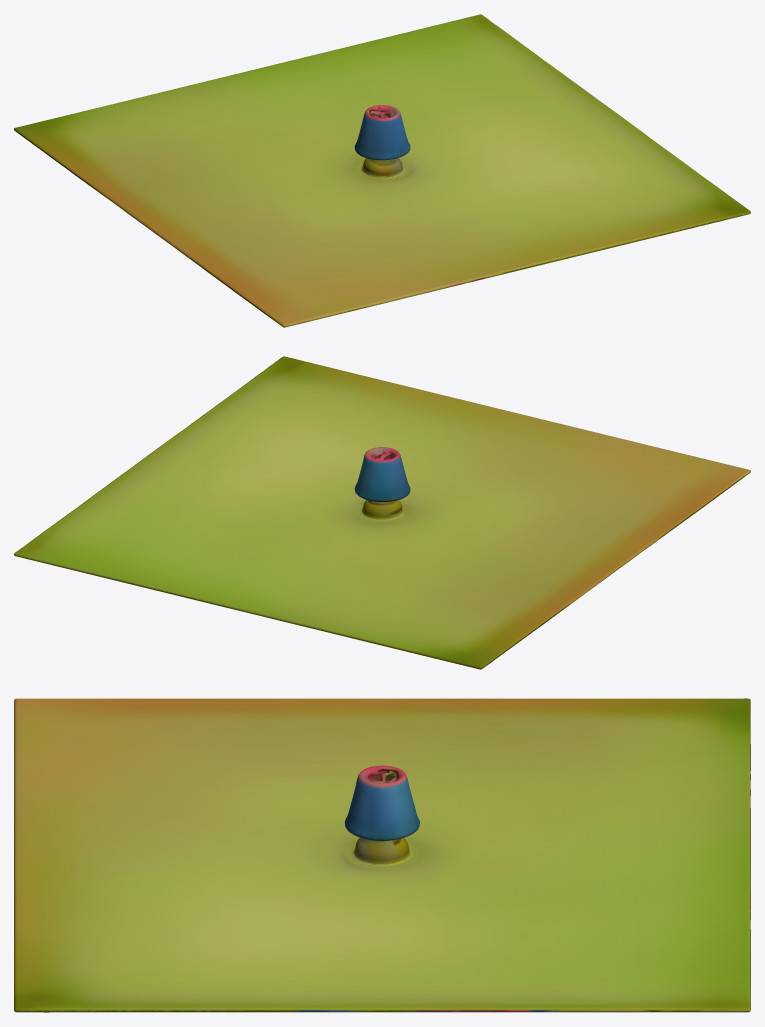
Rendered from bed-lamp-failed.glb.
The picture shows the model from 3 angles, top to bottom: view 1: azimuth 30°, elevation 25°; view 2: azimuth 150°, elevation 25°; view 3: azimuth 270°, elevation 25°; orthographic projection. The views are drawn at different scales.
Visible parts, largest first — view 1: textured; view 2: textured; view 3: textured.
Part boxes in pixels (left/top/right/bottom): textured: left=14, top=14, right=750, bottom=327; textured: left=14, top=356, right=750, bottom=669; textured: left=14, top=698, right=750, bottom=1012.
Size of the model in its own units: 1.99 by 0.2481 by 1.99.
Materials: 1 (1 with a texture image).
